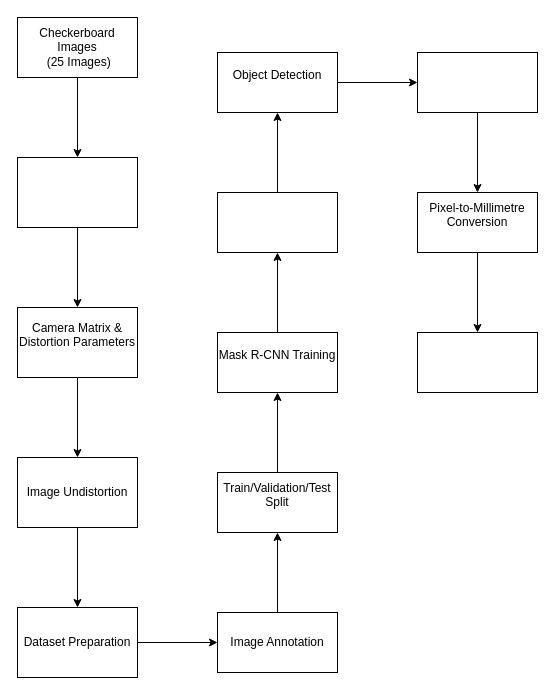
The diagram is 555 pixels wide and 695 high, and some of its shapes have lost their labels. Here are the shapes that lost their labels. From the top down, the centre of each, then its label:
(x=477, y=82): Pixel Measurement Extraction
(x=77, y=192): Camera Calibration OpenCV findCorners
(x=277, y=222): Trained Segmentation Model
(x=477, y=362): Physical Object Measurement
